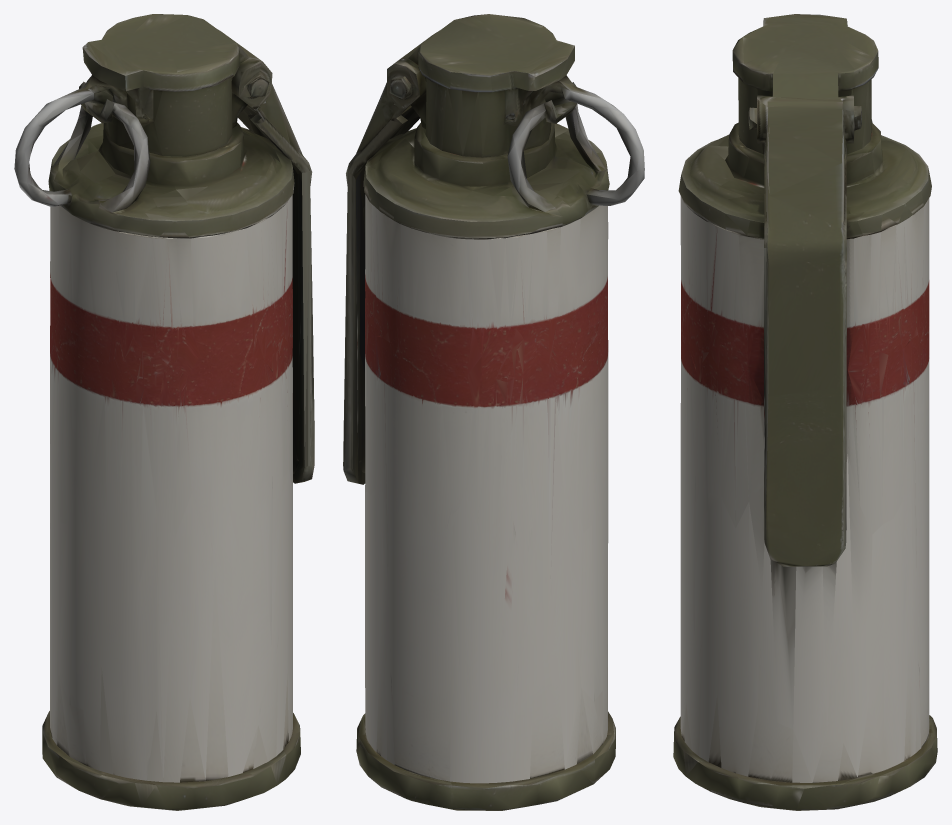
File: Asset_06_LOD1.fbx
3 views of the same model, side by side, from view 1: azimuth 30°, elevation 25°; view 2: azimuth 150°, elevation 25°; view 3: azimuth 270°, elevation 25° (orthographic).
Parts seen in each view (by area): view 1: Asset_06_LOD1; view 2: Asset_06_LOD1; view 3: Asset_06_LOD1.
Part boxes in pixels (<box>): Asset_06_LOD1: <box>14,14,314,810</box>; Asset_06_LOD1: <box>343,14,644,810</box>; Asset_06_LOD1: <box>673,14,937,810</box>.
Bounding box in the file's own units: 0.0597 × 0.145 × 0.0488.
1 material, 1 textured.
